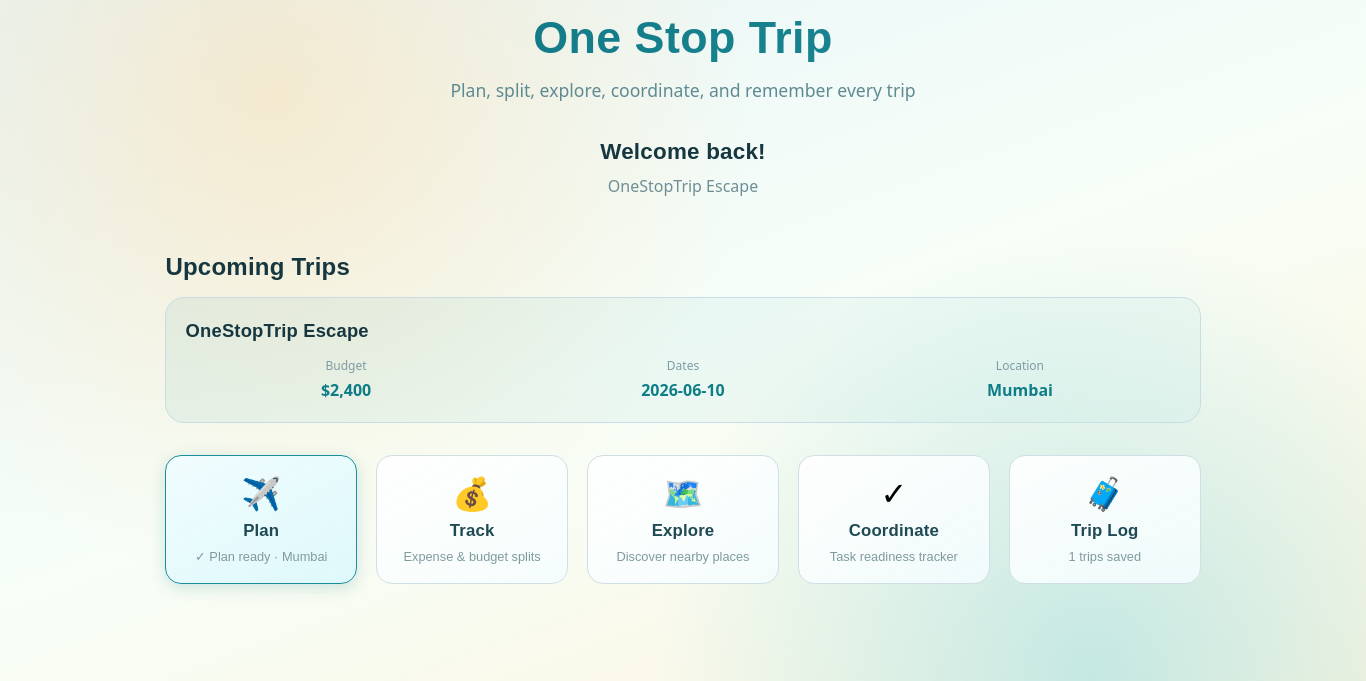
App integration › disables itinerary generation when required planner fields are invalid
This screenshot has width=1366, height=681.
Click the button "✈️ Plan ✓ Plan ready · Mumbai": click(261, 519) x1=165 y1=455 x2=357 y2=584
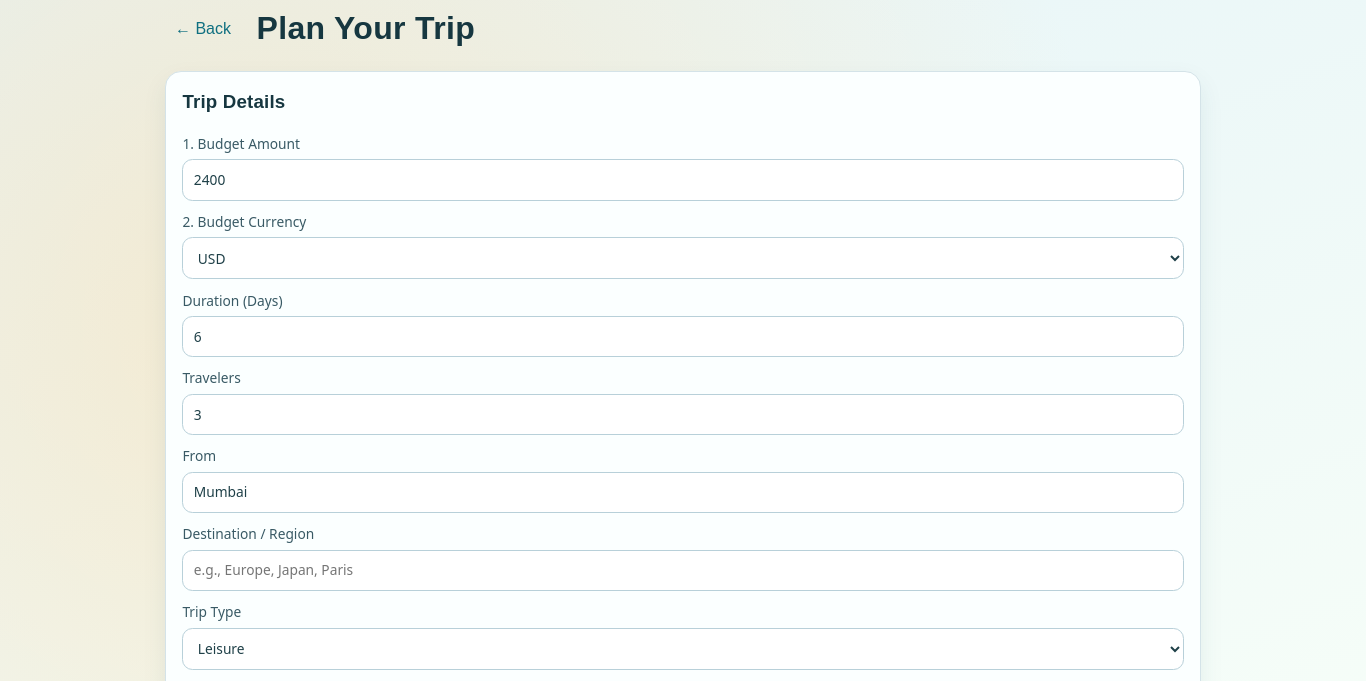
Now the heading "Plan Your Trip" is shown, box x1=257 y1=5 x2=475 y2=52
Clear the field labelled "From": (683, 492) x1=182 y1=472 x2=1184 y2=513
(page scrolled)
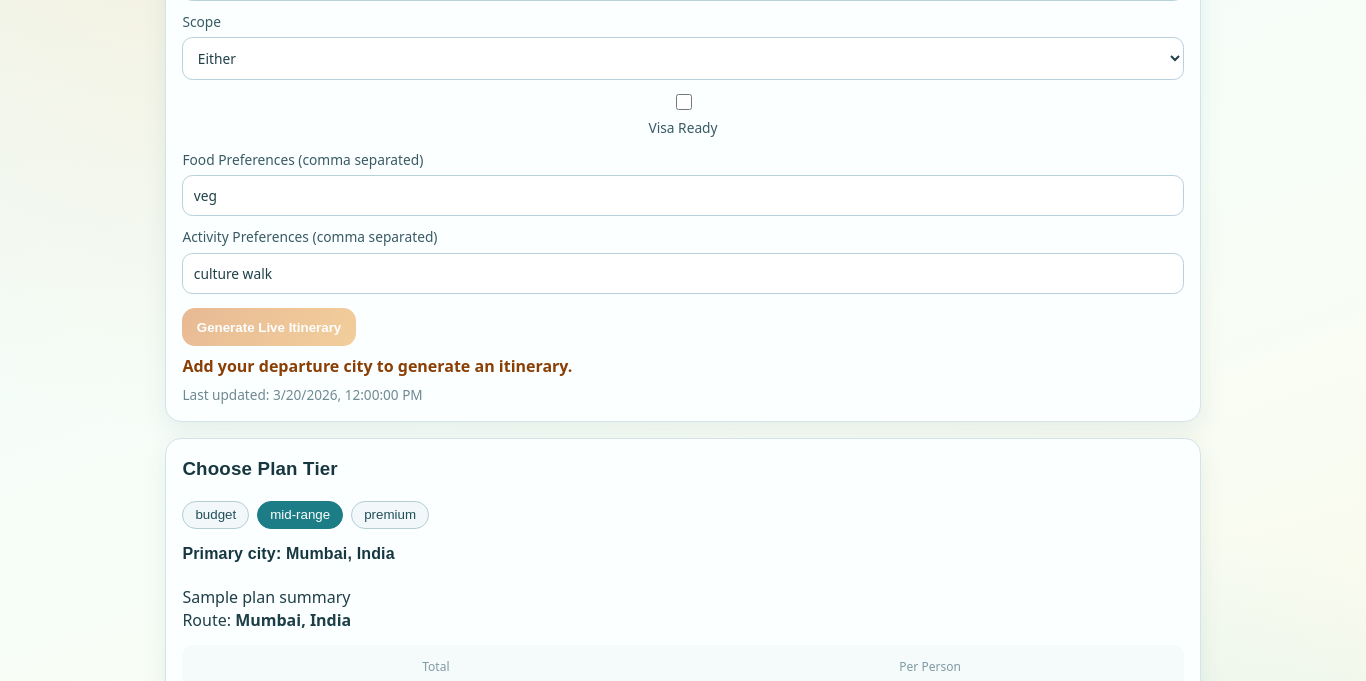
Now the button "Generate Live Itinerary" is disabled, box x1=182 y1=308 x2=356 y2=346
Now the text "Add your departure city to generate an itinerary." is shown, box x1=182 y1=355 x2=572 y2=377
